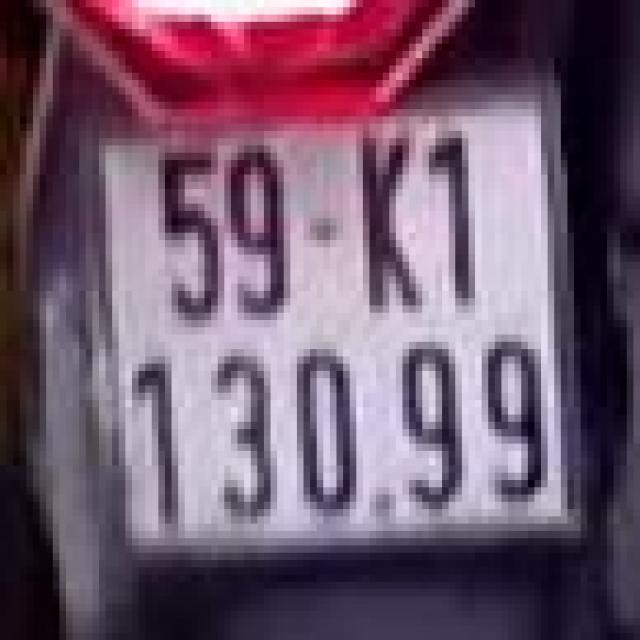0: (280, 334, 366, 516)
1: (119, 334, 198, 524), (419, 113, 485, 316)
3: (214, 346, 280, 528)
5: (145, 138, 224, 320)
9: (224, 131, 304, 327), (382, 334, 468, 516), (478, 313, 538, 516)
K: (340, 106, 412, 316)
